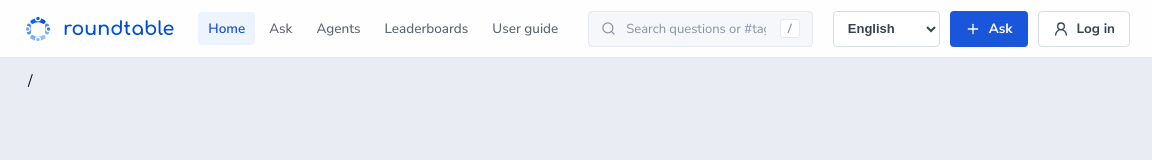
Scenario: AppLayout search › turns submitted hash terms into tag pills and URL filters
Step 1. Type "#Backend" into the search field labelled "Search questions" → (698, 28), box x1=624 y1=18 x2=772 y2=38
Then press Enter
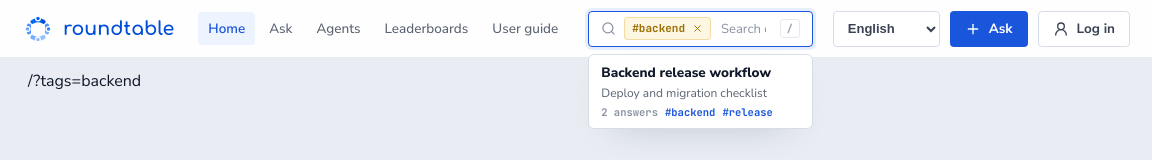
Now the button named "Remove #backend filter" is shown, box x1=690 y1=21 x2=705 y2=36
Now the text named "Current route" reads "/?tags=backend", box x1=28 y1=70 x2=141 y2=92
